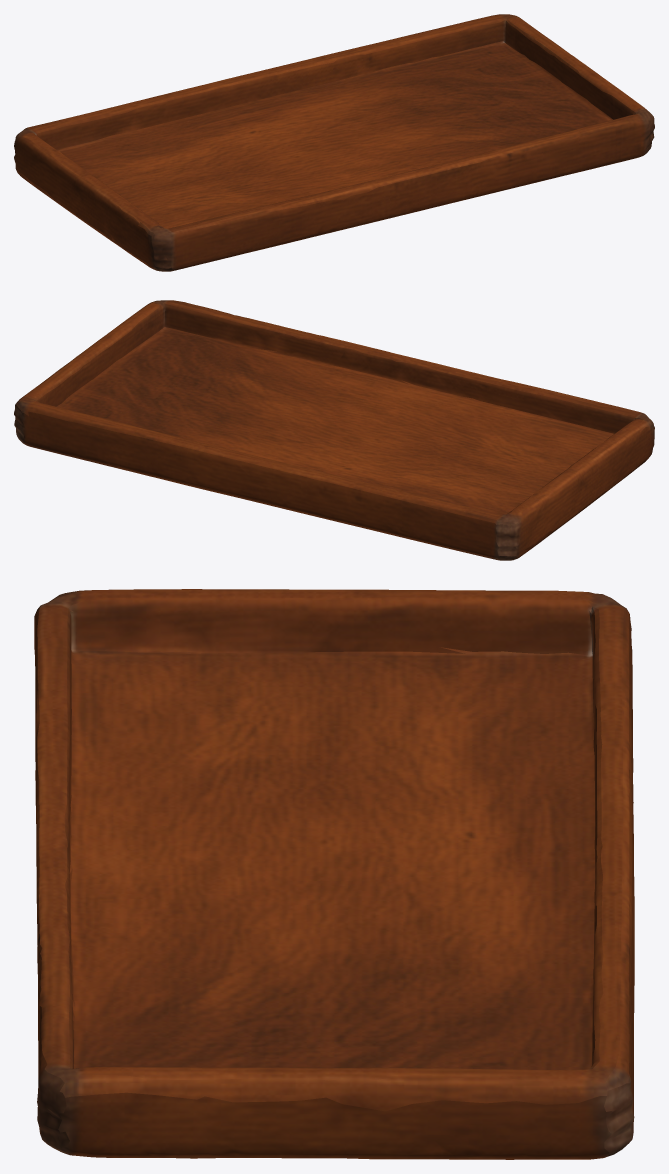
Rendered from tray.glb.
3 renders of one model, top to bottom at view 1: azimuth 30°, elevation 25°; view 2: azimuth 150°, elevation 25°; view 3: azimuth 270°, elevation 25°, orthographic. The views are drawn at different scales.
Parts seen in each view (by area): view 1: world; view 2: world; view 3: world.
Boxes of the visible parts, <box> form: world: <box>14,14,654,271</box>; world: <box>14,300,654,560</box>; world: <box>34,589,634,1159</box>.
Size of the model in its own units: 1 by 0.0887 by 0.5165.
1 material, 1 textured.
